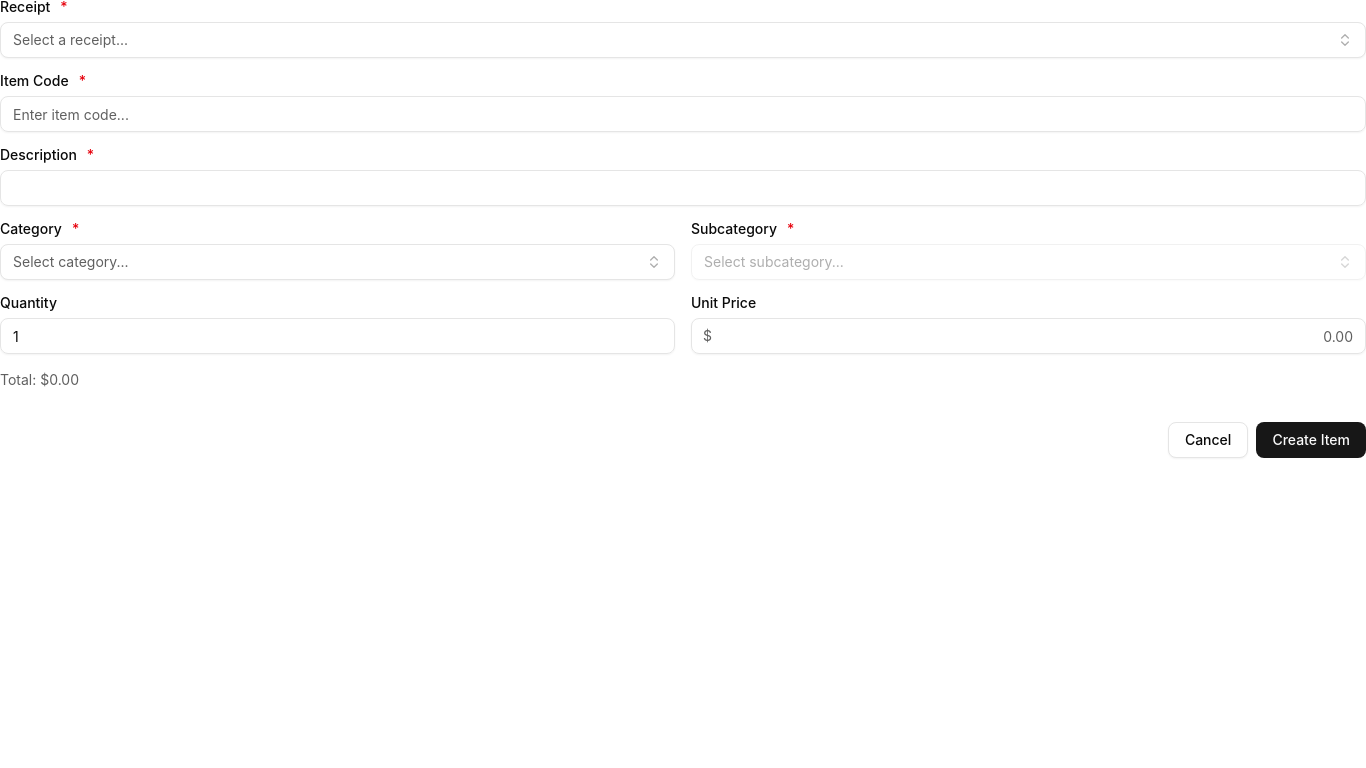
Test: ReceiptItemForm › selects a description history entry and populates the field
The width and height of the screenshot is (1366, 768).
Click the dropdown labelled "Description *" at (683, 188), box [0,170,1365,206]
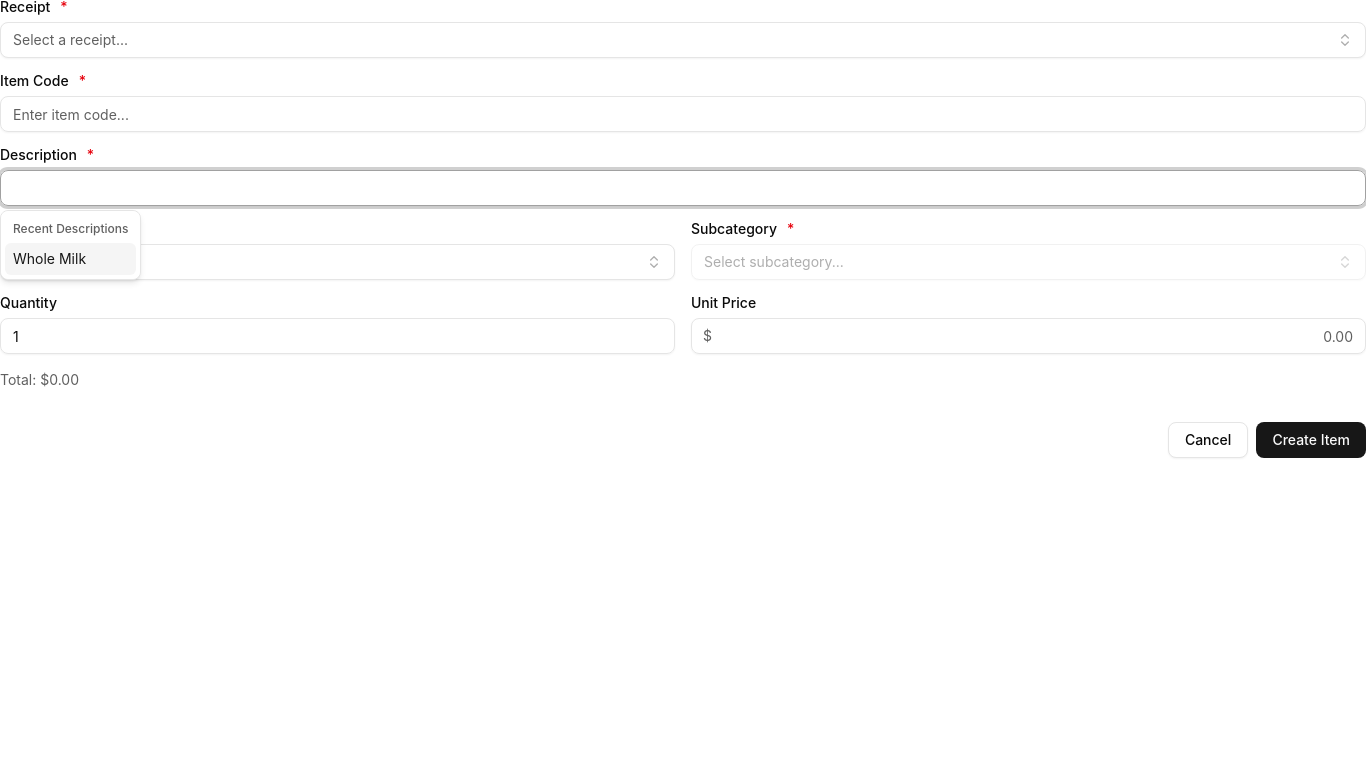
Expected: the text "Whole Milk" is shown, [13,249,86,269]
Select the history item (rendered as a CommandItem with value prefixed "history: ")
Click the option "Whole Milk" at (71, 259), box [5,243,136,275]
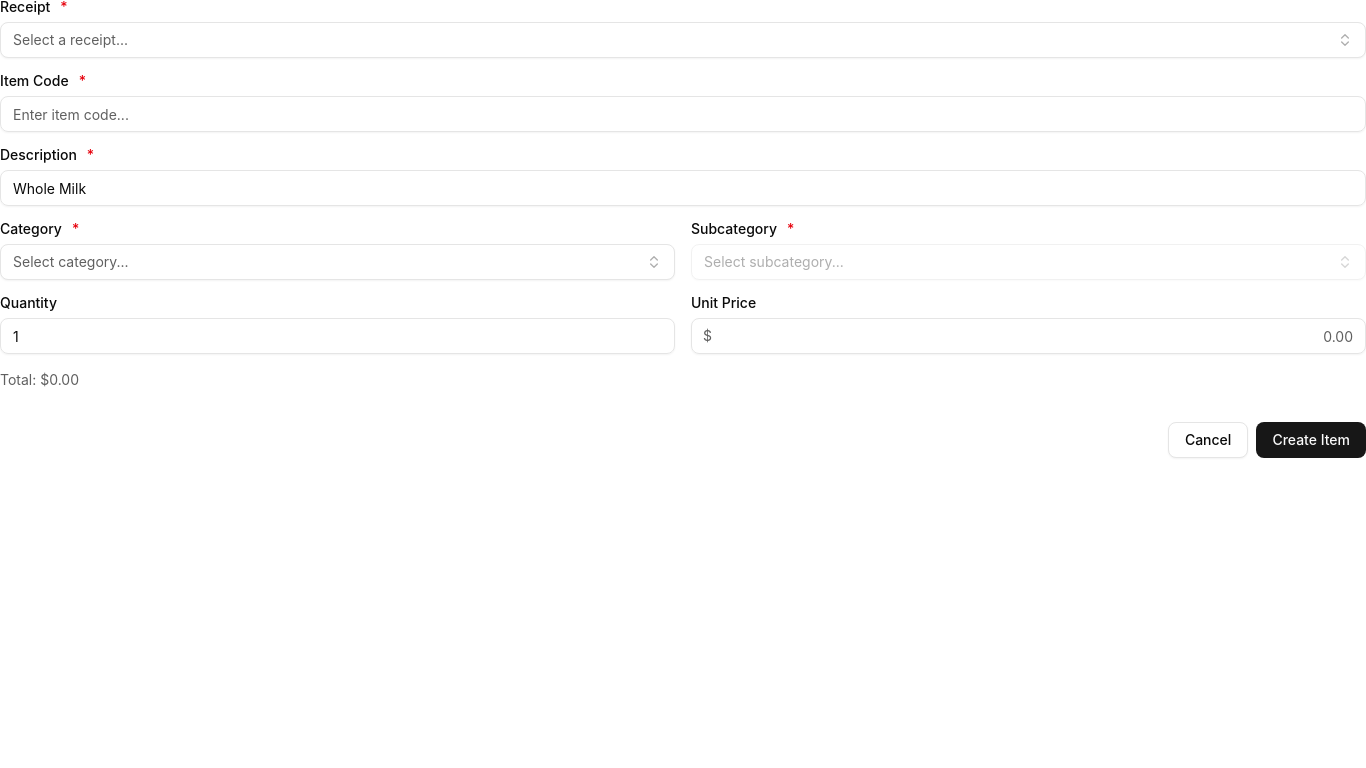
Expected: the dropdown labelled "Description *" holds "Whole Milk", [0,170,1365,206]
